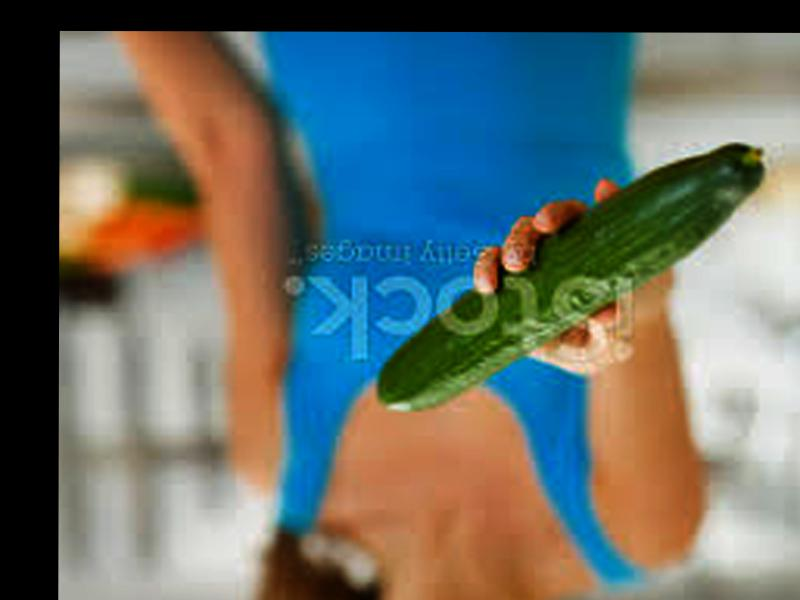Cucumber: (375, 141, 762, 411)
